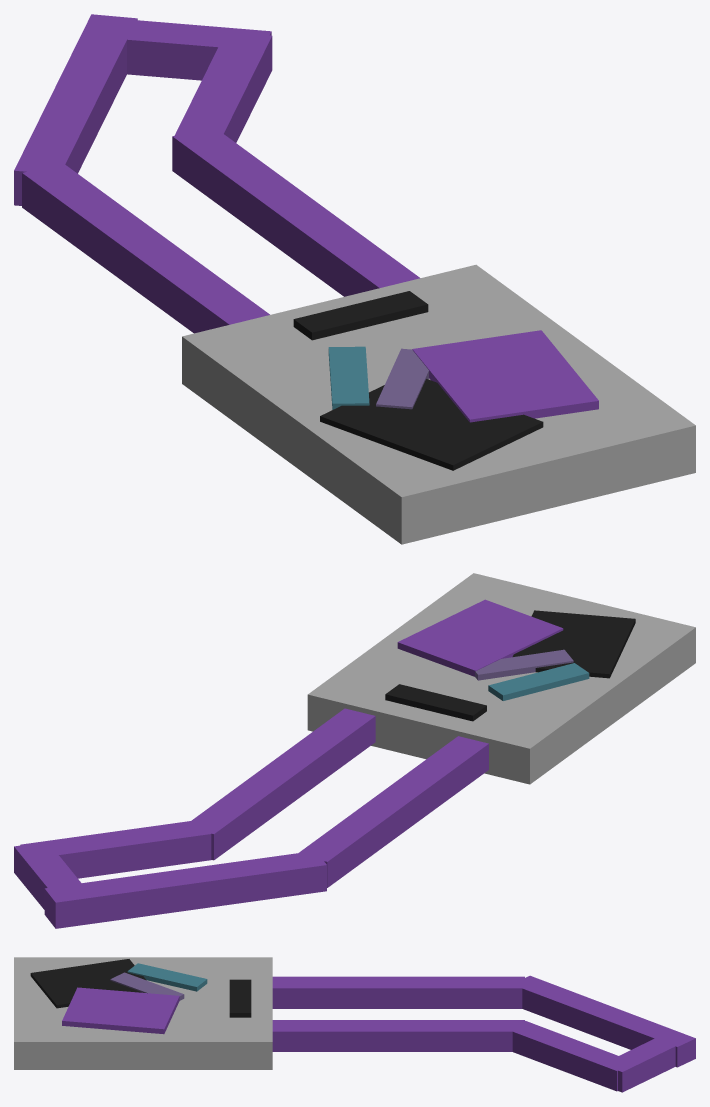
Rendered from object_pass.fbx.
The picture shows the model from 3 angles, top to bottom: view 1: azimuth 30°, elevation 25°; view 2: azimuth 150°, elevation 25°; view 3: azimuth 270°, elevation 25°; orthographic projection. The views are drawn at different scales.
Parts seen in each view (by area): view 1: mesh_pass; view 2: mesh_pass; view 3: mesh_pass.
Boxes of the visible parts, x1,y1,x2,y2 form: mesh_pass: (14,14,695,544); mesh_pass: (14,573,695,928); mesh_pass: (14,957,695,1092).
Size of the model in its own units: 0.2839 by 0.0392 by 0.7368.
